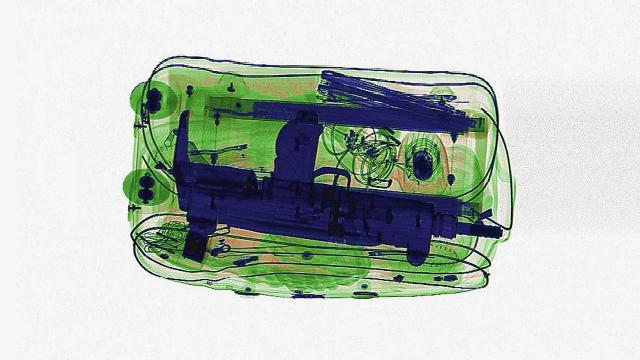Gun: (167, 107, 508, 263)
